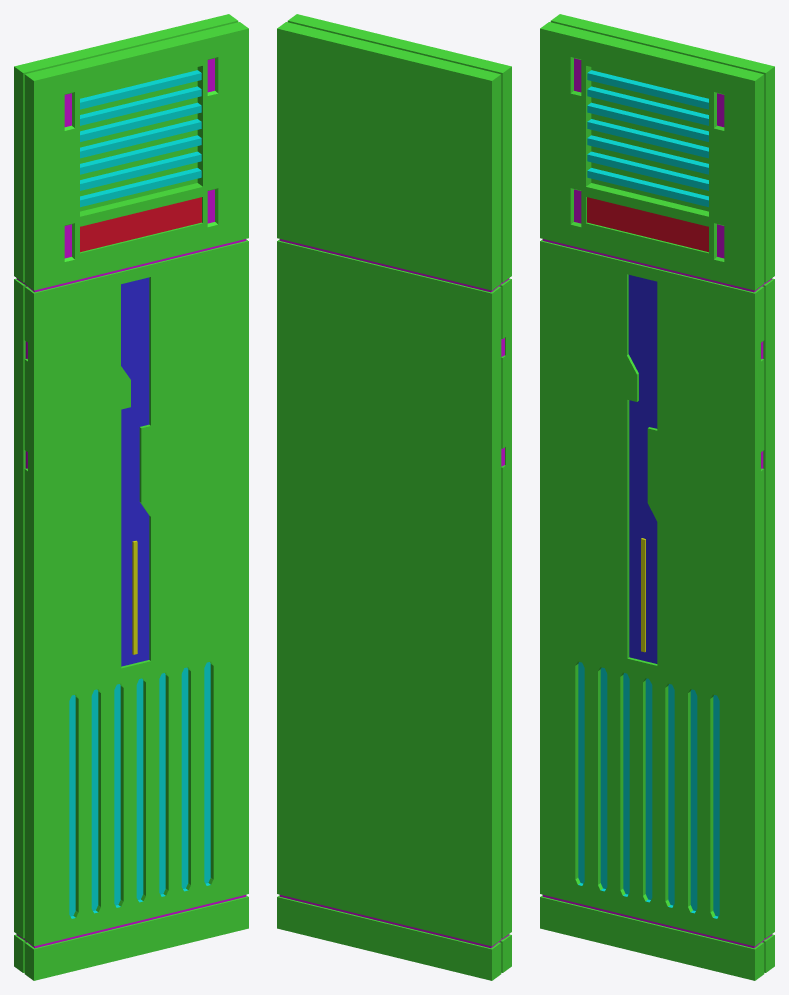
Rendered from Interior_Deco_04.fbx.
The picture shows the model from 3 angles, left to right: view 1: azimuth 30°, elevation 25°; view 2: azimuth 150°, elevation 25°; view 3: azimuth 330°, elevation 25°; orthographic projection.
Parts seen in each view (by area): view 1: Interior_Deco_04; view 2: Interior_Deco_04; view 3: Interior_Deco_04.
Boxes of the visible parts, box(x1,y1,x2,y2) form: Interior_Deco_04: box(14, 14, 248, 980); Interior_Deco_04: box(277, 14, 511, 980); Interior_Deco_04: box(540, 14, 774, 980).
Size of the model in its own units: 114 by 457 by 18.29.
